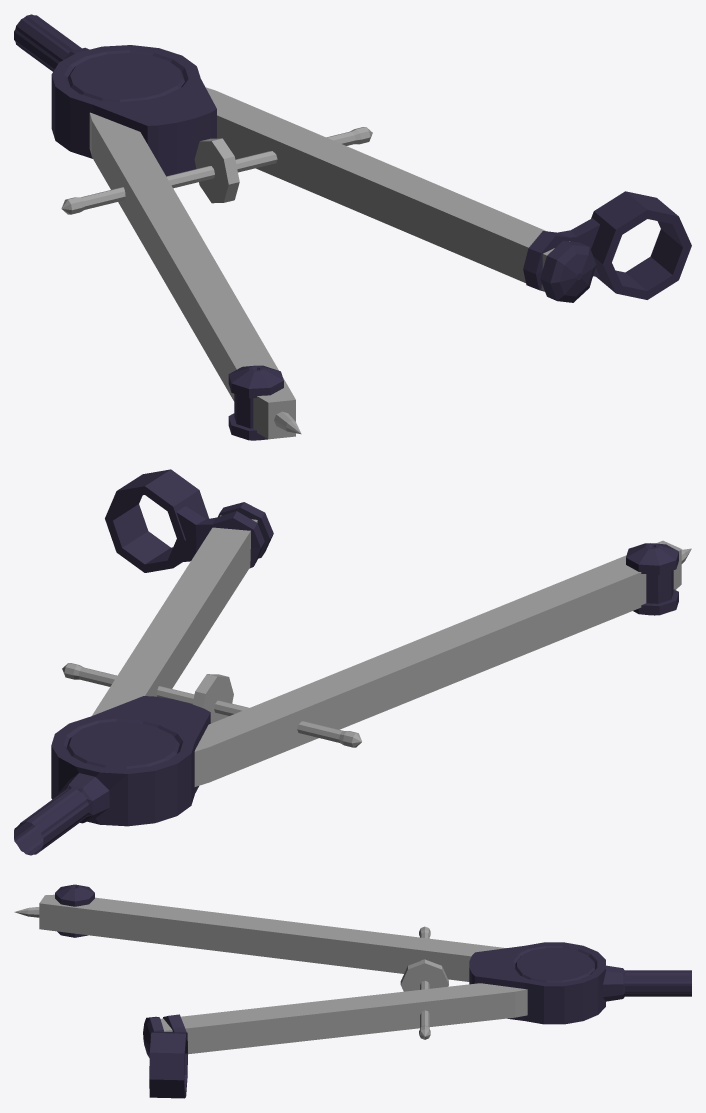
Rendered from 컴퍼스.fbx.
The picture shows the model from 3 angles, top to bottom: view 1: azimuth 30°, elevation 25°; view 2: azimuth 150°, elevation 25°; view 3: azimuth 270°, elevation 25°; orthographic projection. The views are drawn at different scales.
Visible parts, largest first — view 1: Dari2, Dari1, Mom; view 2: Dari1, Dari2, Mom; view 3: Dari1, Dari2, Mom.
Boxes of the visible parts, x1=… form: Dari2: x1=205, y1=87, x2=691, y2=302; Dari1: x1=61, y1=112, x2=372, y2=440; Mom: x1=14, y1=14, x2=216, y2=176; Dari1: x1=62, y1=540, x2=691, y2=786; Dari2: x1=92, y1=469, x2=273, y2=715; Mom: x1=14, y1=696, x2=210, y2=855; Dari1: x1=14, y1=884, x2=506, y2=1039; Dari2: x1=143, y1=983, x2=527, y2=1098; Mom: x1=469, y1=942, x2=691, y2=1024.
Bounding box in the file's own units: 1371 × 229 × 2213.
